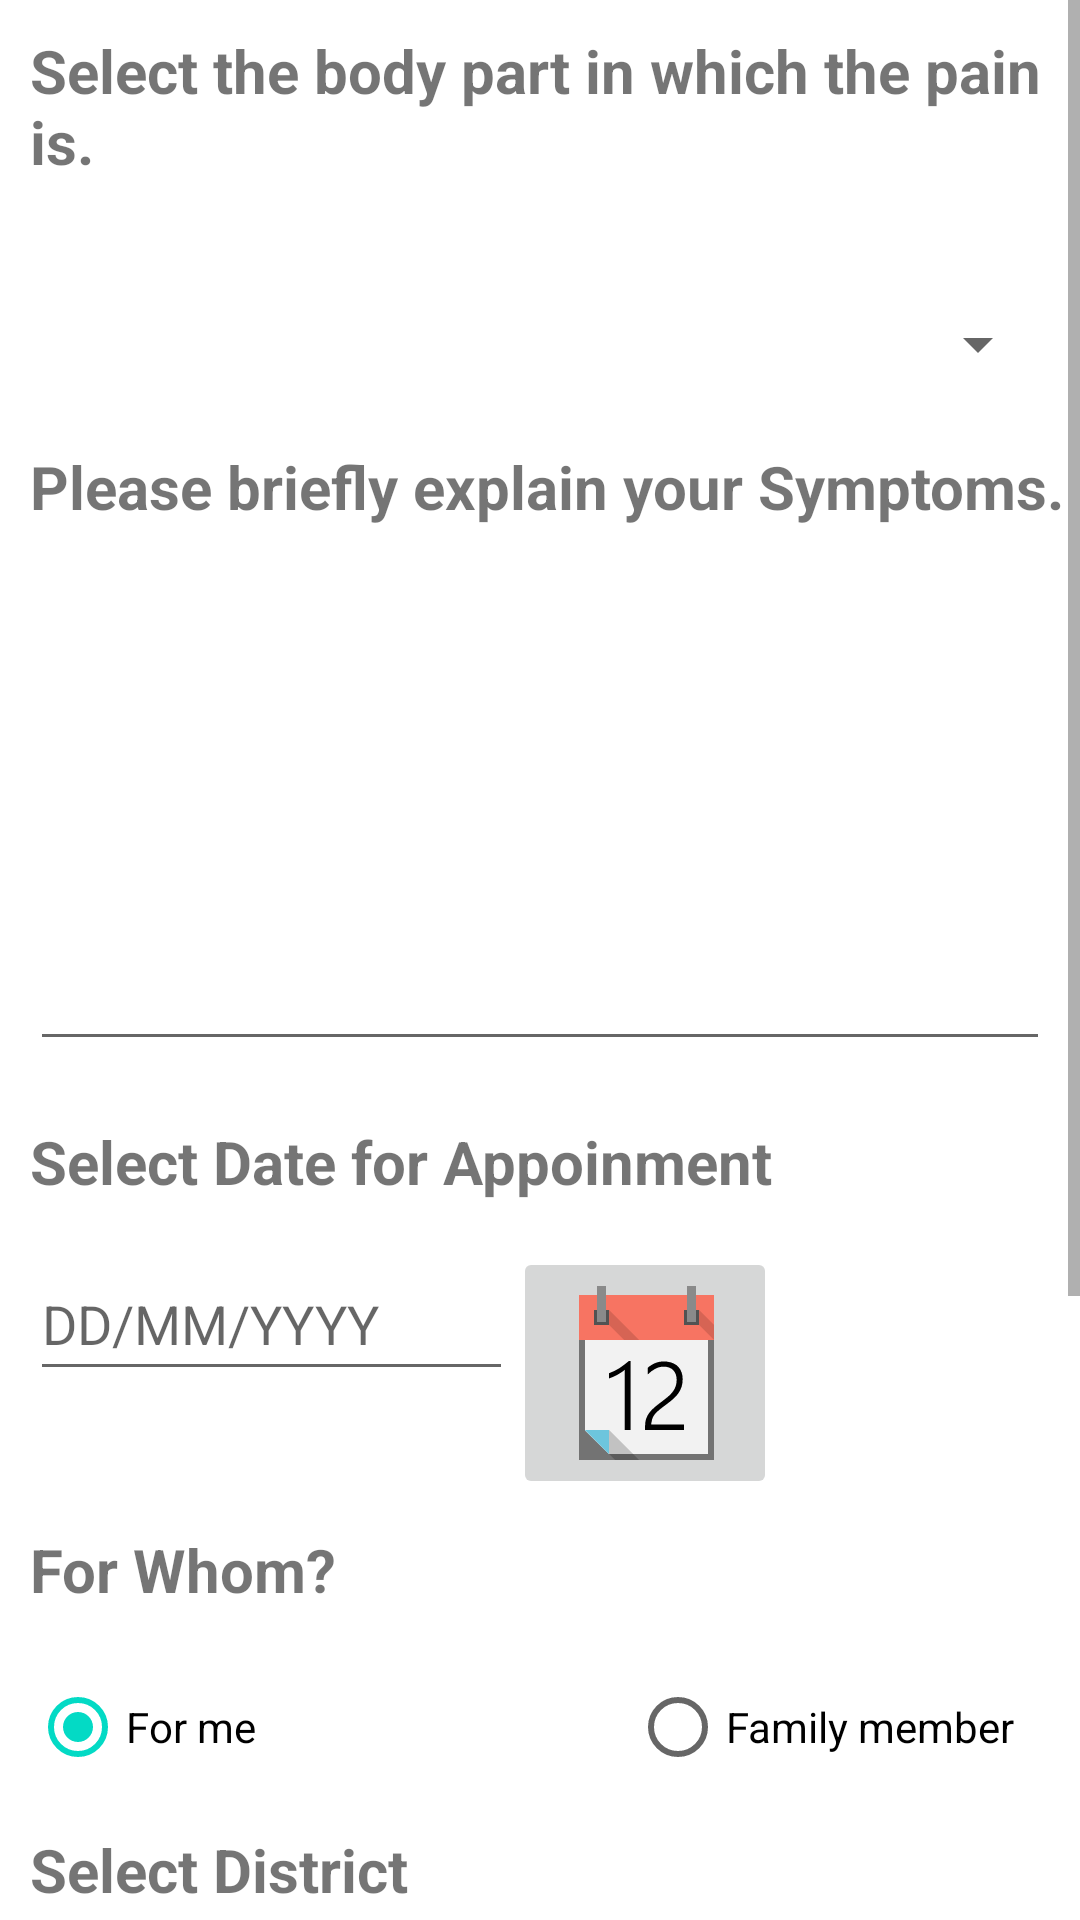

Point at icon controls on the screen. Image size 1080 x 1920, points as point (x, y).
calender: point (645, 1373)
